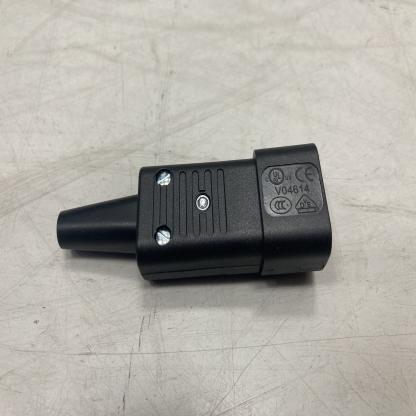SP0000004: (30, 103, 403, 314)
